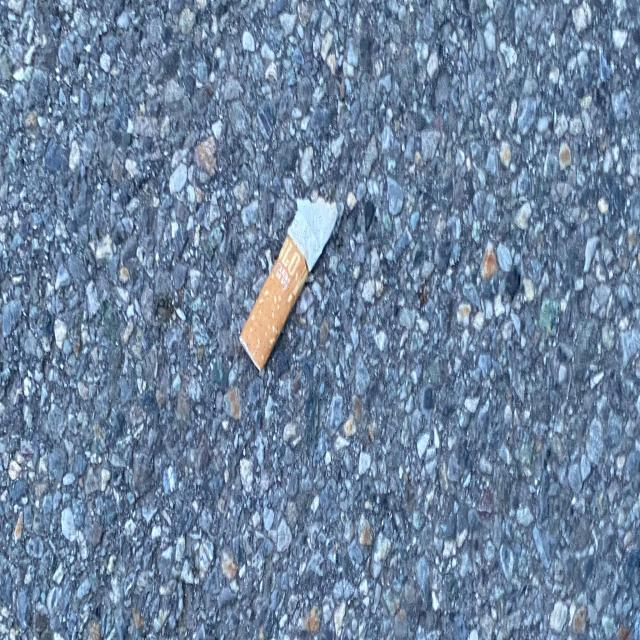other waste: (236, 195, 340, 375)
